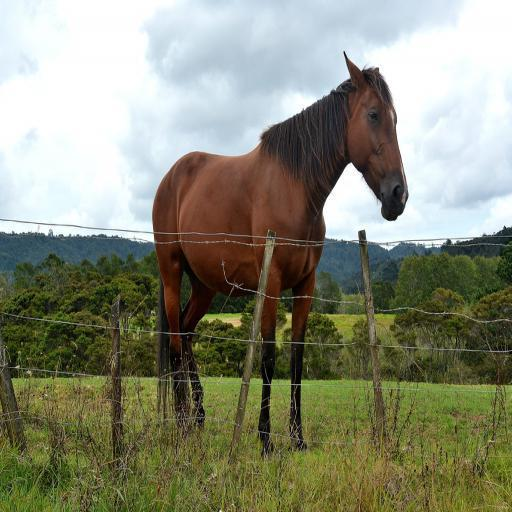horse: (154, 48, 410, 456)
